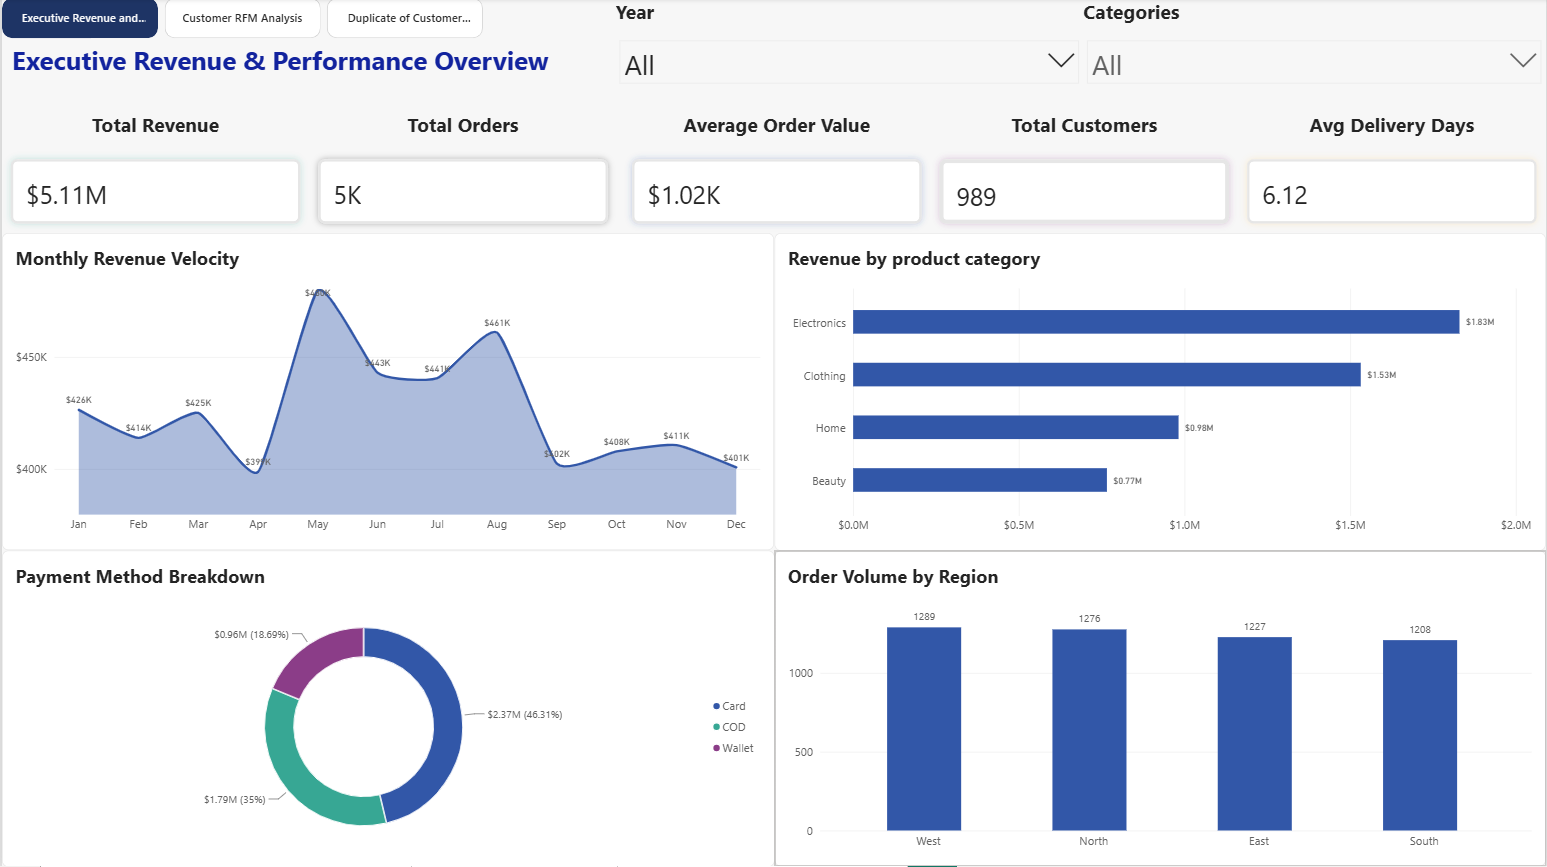

Layout of this report page (visuals, bound fields, positions):
{"tool":"powerbi","page":{"name":"Executive Revenue and Performance Overview","canvas":[1920,1080],"ordinal":0},"visuals":[{"type":"textbox","box":[11.7,0,716.9,120.6],"z":0},{"type":"cardVisual","title":"Total Revenue","fields":{"Data":["_Measures.Total Revenue"]},"box":[0,142.1,382,150.5],"z":1000},{"type":"cardVisual","title":"Total Orders","fields":{"Data":["_Measures.Total Orders"]},"box":[382.6,142.1,382,150],"z":2000},{"type":"cardVisual","title":"Average Order Value","fields":{"Data":["_Measures.Average Order Value"]},"box":[771.8,142.1,382,150],"z":3000},{"type":"cardVisual","title":"Total Customers","fields":{"Data":["_Measures.Total Customers"]},"box":[1154.4,142.1,382,150],"z":4000},{"type":"cardVisual","title":"Avg Delivery Days","fields":{"Data":["_Measures.Avg Delivery Days"]},"box":[1537,142.1,382,150],"z":5000},{"type":"slicer","title":"Year","fields":{"Values":["Dim_Date.Year"]},"box":[763.8,0,581.2,120.6],"z":6000},{"type":"slicer","title":"Categories","fields":{"Values":["ecommerce_sales.product_category"]},"box":[1345,0,574.5,120.6],"z":7000},{"type":"areaChart","title":"Monthly Revenue Velocity","fields":{"Category":["Dim_Date.Year","Dim_Date.Month Short"],"Y":["_Measures.Total Revenue"]},"box":[0,293,960,394],"z":8000},{"type":"clusteredBarChart","title":"Revenue by product category","fields":{"Category":["ecommerce_sales.product_category"],"Y":["_Measures.Total Revenue"]},"box":[960.9,291.9,959.1,395.2],"z":9000},{"type":"donutChart","title":"Payment Method Breakdown","fields":{"Category":["ecommerce_sales.payment_method"],"Y":["_Measures.Total Revenue"]},"box":[0,687.1,960.9,393.4],"z":10000},{"type":"clusteredColumnChart","title":"Order Volume by Region","fields":{"Category":["ecommerce_sales.region"],"Y":["_Measures.Total Orders"]},"box":[961,687,959,393],"z":11000},{"type":"pageNavigator","box":[0,0,600,50],"z":11001}]}

Visuals, with their boxes on the page's 1920x1080 design canvas (x1, y1, x2, y2). These are canvas units, not pixel positions in the 1547x867 screenshot, which may show the page scaled, cropped or inside an application window:
textbox: box=[12, 0, 729, 121]
"Total Revenue" cardVisual: box=[0, 142, 382, 293]
"Total Orders" cardVisual: box=[383, 142, 765, 292]
"Average Order Value" cardVisual: box=[772, 142, 1154, 292]
"Total Customers" cardVisual: box=[1154, 142, 1536, 292]
"Avg Delivery Days" cardVisual: box=[1537, 142, 1919, 292]
"Year" slicer: box=[764, 0, 1345, 121]
"Categories" slicer: box=[1345, 0, 1920, 121]
"Monthly Revenue Velocity" areaChart: box=[0, 293, 960, 687]
"Revenue by product category" clusteredBarChart: box=[961, 292, 1920, 687]
"Payment Method Breakdown" donutChart: box=[0, 687, 961, 1080]
"Order Volume by Region" clusteredColumnChart: box=[961, 687, 1920, 1080]
pageNavigator: box=[0, 0, 600, 50]
